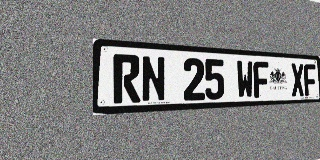2: (183, 57, 205, 101)
5: (205, 59, 224, 100)
F: (253, 61, 269, 98), (304, 64, 317, 96)
N: (141, 55, 166, 102)
R: (113, 54, 141, 103)
W: (236, 60, 254, 99)
X: (291, 63, 304, 96)
